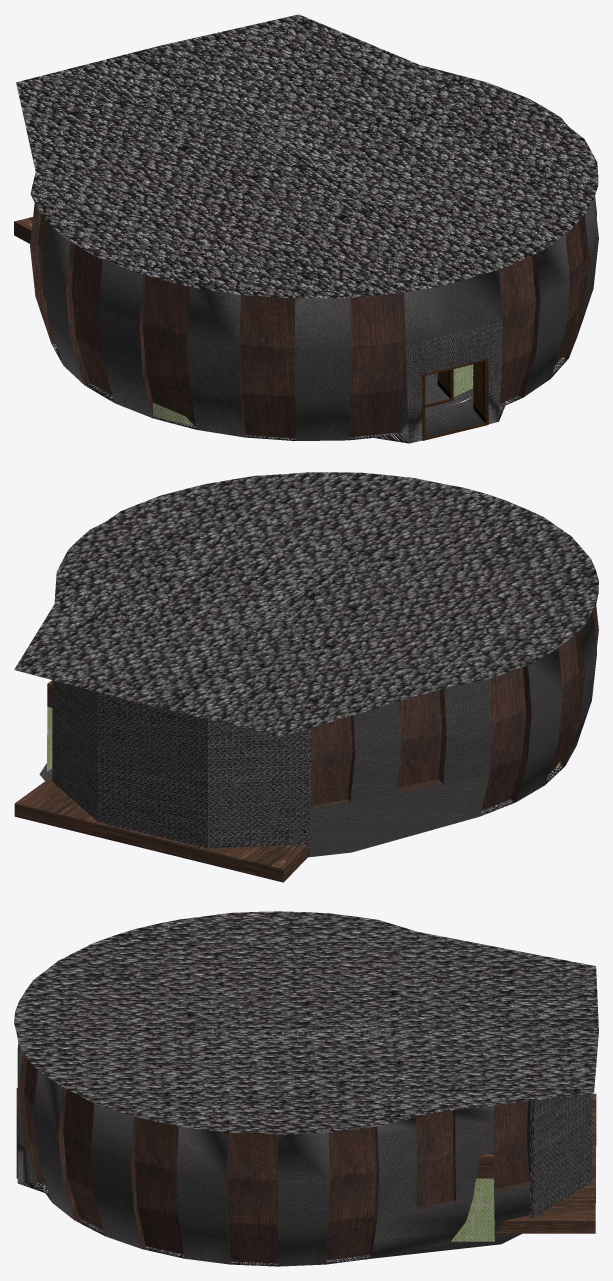
File: Escenario Kafe.fbx
3 renders of one model, top to bottom at view 1: azimuth 30°, elevation 25°; view 2: azimuth 150°, elevation 25°; view 3: azimuth 270°, elevation 25°, orthographic. The views are drawn at different scales.
Parts seen in each view (by area): view 1: Sphere.017, Sphere, Sphere.006, Sphere.007, Sphere.005, Sphere.008, Sphere.004, Sphere.009, Sphere.003, Tube001.002, Sphere.016, Marco2 (+1 smaller); view 2: Sphere.017, pCube135, Sphere, pCube135.003, Sphere.003, Sphere.002, Sphere.001, Sphere.004; view 3: Sphere.017, Sphere, Sphere.011, pCube135, Sphere.012, Sphere.010, Sphere.009, Sphere.014, Sphere.013, pCube135.003, Tube001.002, Sphere.008.
Part boxes in pixels (box(x1,y1,x2,y2)): Sphere.017: box(16, 14, 598, 298); Sphere: box(42, 198, 598, 443); Sphere.006: box(239, 294, 296, 438); Sphere.007: box(348, 292, 405, 437); Sphere.005: box(139, 274, 195, 425); Sphere.008: box(498, 254, 540, 403); Sphere.004: box(66, 241, 112, 395); Sphere.009: box(555, 214, 589, 364); Sphere.003: box(30, 203, 55, 343); Tube001.002: box(153, 364, 473, 424); Sphere.016: box(405, 345, 473, 412); Marco2: box(422, 359, 488, 440); Sphere.017: box(14, 472, 598, 736); pCube135: box(52, 680, 310, 849); Sphere: box(39, 611, 596, 857); pCube135.003: box(14, 776, 309, 882); Sphere.003: box(481, 665, 531, 810); Sphere.002: box(397, 688, 446, 792); Sphere.001: box(311, 715, 355, 809); Sphere.004: box(548, 630, 584, 774); Sphere.017: box(14, 911, 598, 1134); Sphere: box(17, 1044, 529, 1266); Sphere.011: box(226, 1132, 277, 1263); pCube135: box(530, 1093, 592, 1217); Sphere.012: box(326, 1126, 378, 1260); Sphere.010: box(131, 1116, 183, 1254); Sphere.009: box(58, 1087, 103, 1230); Sphere.014: box(416, 1110, 455, 1210); Sphere.013: box(493, 1101, 532, 1192); pCube135.003: box(496, 1093, 596, 1233); Tube001.002: box(451, 1178, 494, 1241); Sphere.008: box(18, 1052, 46, 1186).
Size of the model in its own units: 3335 by 982 by 3689.
